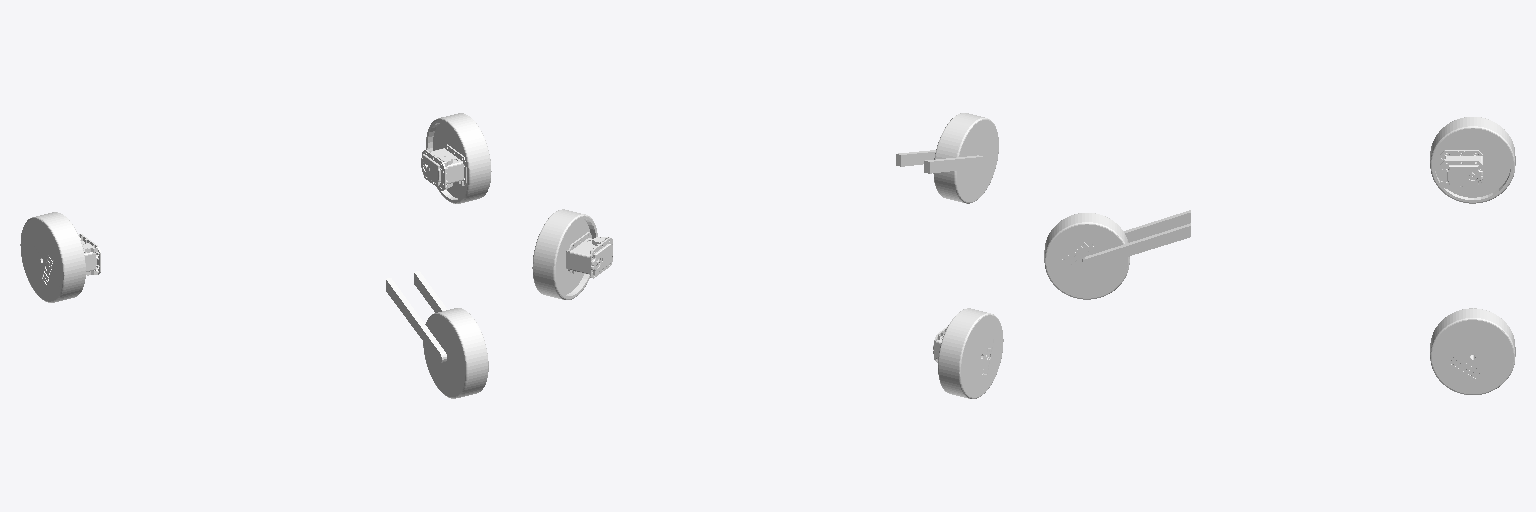
The robot description file, URDF, robot "assembly":
<?xml version="1.0" encoding="utf-8"?>
<!-- This URDF was automatically created by SolidWorks to URDF Exporter! Originally created by [author] ([email redacted]) 
     Commit Version: 1.5.1-0-g916b5db  Build Version: 1.5.7152.31018
     For more information, please see http://wiki.ros.org/sw_urdf_exporter -->
<robot
  name="assembly">
  <link
    name="base_link">
    <inertial>
      <origin
        xyz="0.0276418278157166 -0.472599056033966 0.0312550060354526"
        rpy="0 0 0" />
      <mass
        value="2.26299534521544" />
      <inertia
        ixx="0.0236090944163617"
        ixy="3.73909220149501E-19"
        ixz="3.29690604315055E-08"
        iyy="0.0191899669560079"
        iyz="-1.27406422046969E-05"
        izz="0.0424983502674055" />
    </inertial>
    <visual>
      <origin
        xyz="0 0 0"
        rpy="0 0 0" />
      <geometry>
        <mesh
          filename="package://assembly/meshes/base_link.STL" />
      </geometry>
      <material
        name="">
        <color
          rgba="0.752941176470588 0.752941176470588 0.752941176470588 1" />
      </material>
    </visual>
    <collision>
      <origin
        xyz="0 0 0"
        rpy="0 0 0" />
      <geometry>
        <mesh
          filename="package://assembly/meshes/base_link.STL" />
      </geometry>
    </collision>
  </link>
  <link
    name="Front">
    <inertial>
      <origin
        xyz="0.743266133544045 0.0286595649626295 -0.00572671894259557"
        rpy="0 0 0" />
      <mass
        value="0.264794942457609" />
      <inertia
        ixx="0.000180912937505476"
        ixy="3.60360586378347E-08"
        ixz="1.27547742425514E-05"
        iyy="0.000340749130203072"
        iyz="4.49256608414961E-08"
        izz="0.00021305693604264" />
    </inertial>
    <visual>
      <origin
        xyz="0 0 0"
        rpy="0 0 0" />
      <geometry>
        <mesh
          filename="package://assembly/meshes/Front.STL" />
      </geometry>
      <material
        name="">
        <color
          rgba="1 1 1 1" />
      </material>
    </visual>
    <collision>
      <origin
        xyz="0 0 0"
        rpy="0 0 0" />
      <geometry>
        <mesh
          filename="package://assembly/meshes/Front.STL" />
      </geometry>
    </collision>
  </link>
  <joint
    name="F"
    type="continuous">
    <origin
      xyz="0 0 0"
      rpy="0 0 -1.5708" />
    <parent
      link="base_link" />
    <child
      link="Front" />
    <axis
      xyz="0 1 0" />
    <limit
      effort="0"
      velocity="7" />
  </joint>
  <link
    name="Left">
    <inertial>
      <origin
        xyz="0.298882898843663 0.29098420988939 -0.00796542206660854"
        rpy="0 0 0" />
      <mass
        value="0.234499143777188" />
      <inertia
        ixx="0.000143665371621267"
        ixy="1.83610799997035E-07"
        ixz="-1.10937110486876E-08"
        iyy="0.000262556797814612"
        iyz="-2.18056513365289E-08"
        izz="0.000148285986716905" />
    </inertial>
    <visual>
      <origin
        xyz="0 0 0"
        rpy="0 0 0" />
      <geometry>
        <mesh
          filename="package://assembly/meshes/Left.STL" />
      </geometry>
      <material
        name="">
        <color
          rgba="1 1 1 1" />
      </material>
    </visual>
    <collision>
      <origin
        xyz="0 0 0"
        rpy="0 0 0" />
      <geometry>
        <mesh
          filename="package://assembly/meshes/Left.STL" />
      </geometry>
    </collision>
  </link>
  <joint
    name="L"
    type="continuous">
    <origin
      xyz="0 0 0"
      rpy="0 0 -1.5708" />
    <parent
      link="base_link" />
    <child
      link="Left" />
    <axis
      xyz="0 1 0" />
    <limit
      effort="0"
      velocity="7" />
  </joint>
  <link
    name="Right">
    <inertial>
      <origin
        xyz="0.298877252811855 -0.235853070165976 -0.00796377046701283"
        rpy="0 0 0" />
      <mass
        value="0.234499143777188" />
      <inertia
        ixx="0.000143678725207271"
        ixy="-1.99274169514913E-07"
        ixz="-1.43895535404509E-08"
        iyy="0.000262556797814612"
        iyz="3.57221779927153E-08"
        izz="0.0001482726331309" />
    </inertial>
    <visual>
      <origin
        xyz="0 0 0"
        rpy="0 0 0" />
      <geometry>
        <mesh
          filename="package://assembly/meshes/Right.STL" />
      </geometry>
      <material
        name="">
        <color
          rgba="1 1 1 1" />
      </material>
    </visual>
    <collision>
      <origin
        xyz="0 0 0"
        rpy="0 0 0" />
      <geometry>
        <mesh
          filename="package://assembly/meshes/Right.STL" />
      </geometry>
    </collision>
  </link>
  <joint
    name="R"
    type="continuous">
    <origin
      xyz="0 0 0"
      rpy="0 0 -1.5708" />
    <parent
      link="base_link" />
    <child
      link="Right" />
    <axis
      xyz="0 1 0" />
    <limit
      effort="0"
      velocity="7" />
  </joint>
</robot>

--- What the picture shows (computed from the rendered views, not written in the file) ---
Views: 3 orthographic renders of the robot side by side, from view 1: azimuth 30°, elevation 25°; view 2: azimuth 150°, elevation 25°; view 3: azimuth 270°, elevation 25°.
Model assembly with 4 links and 3 joints (3 continuous), rooted at base_link, posed all joints at 0.
Links seen in each view (by area): view 1: Front, Right, Left; view 2: Front, Left, Right; view 3: Front, Left, Right.
Link boxes in pixels (x1=…): Front: x1=386, y1=271, x2=488, y2=398; Right: x1=20, y1=212, x2=100, y2=302; Left: x1=421, y1=113, x2=491, y2=203; Front: x1=896, y1=113, x2=998, y2=203; Left: x1=532, y1=209, x2=612, y2=299; Right: x1=933, y1=308, x2=1003, y2=398; Front: x1=1044, y1=210, x2=1190, y2=299; Left: x1=1430, y1=308, x2=1515, y2=394; Right: x1=1430, y1=117, x2=1515, y2=203.
Bounding box of the posed robot: 0.5615 × 0.552 × 0.1003 m (x, y, z).
Meshes: 4 distinct files referenced, 3 mesh visuals loaded (3 binary STL); not drawn: 1 (reference not matched to a file when rendering).